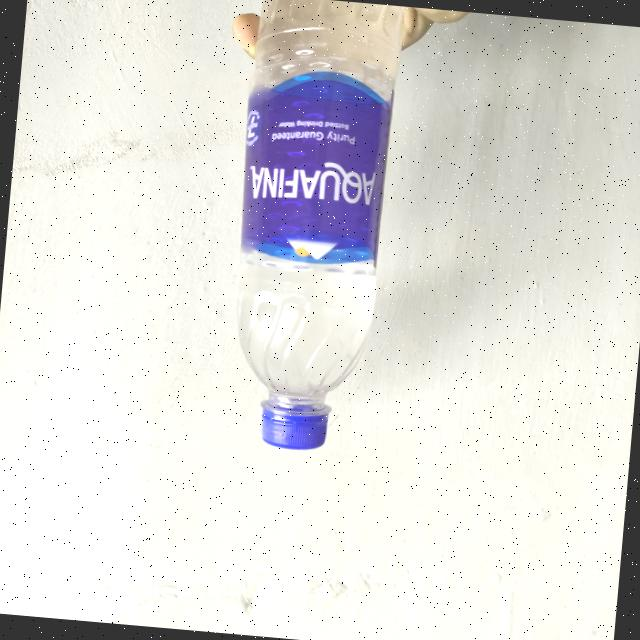bottle: (211, 0, 415, 459)
cap: (256, 392, 336, 452)
label: (238, 54, 400, 269)
